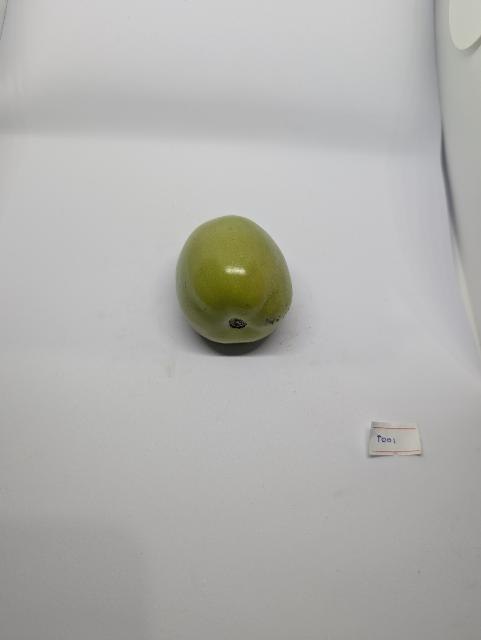green: (174, 214, 296, 346)
